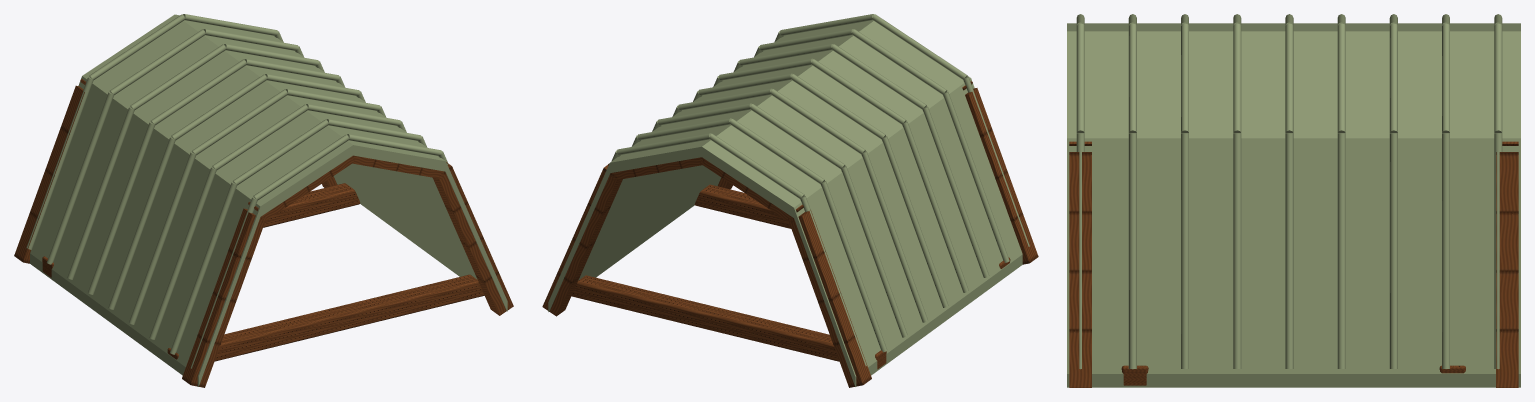
File: prehistoric-survivor-settlement-tall-longhouse-roof-99eb0b46__23175.glb
3 views of the same model, side by side, from view 1: azimuth 30°, elevation 25°; view 2: azimuth 150°, elevation 25°; view 3: azimuth 270°, elevation 25° (orthographic). The views are drawn at different scales.
Parts seen in each view (by area): view 1: tall-longhouse-roof; view 2: tall-longhouse-roof; view 3: tall-longhouse-roof.
Boxes of the visible parts, x1,y1,x2,y2 form: tall-longhouse-roof: (14, 14, 513, 387); tall-longhouse-roof: (542, 14, 1038, 387); tall-longhouse-roof: (1067, 14, 1520, 387).
Bounding box in the file's own units: 2.09 × 1.33 × 2.
2 materials, 1 textured.
